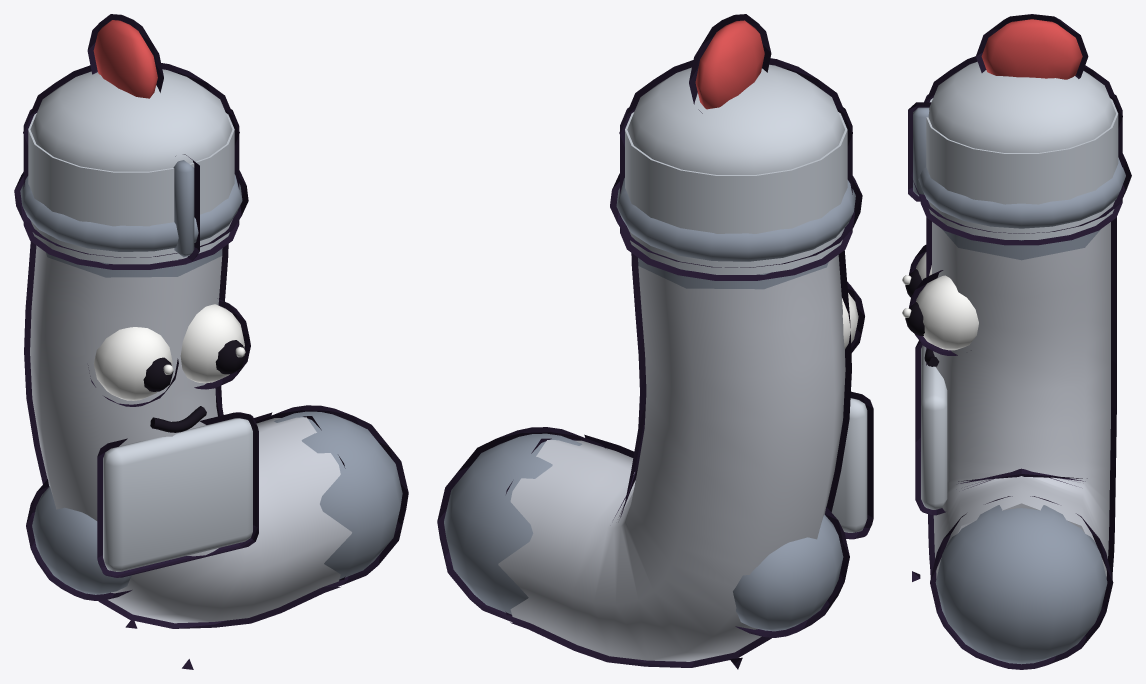
The model's file is Sockington_R.glb.
The picture shows the model from 3 angles, left to right: view 1: azimuth 30°, elevation 25°; view 2: azimuth 150°, elevation 25°; view 3: azimuth 270°, elevation 25°; orthographic projection. The views are drawn at different scales.
Parts seen in each view (by area): view 1: Sockington_R, Sockington_R_Outline; view 2: Sockington_R, Sockington_R_Outline; view 3: Sockington_R, Sockington_R_Outline.
Boxes of the visible parts, x1,y1,x2,y2 form: Sockington_R: (20, 20, 402, 623); Sockington_R_Outline: (14, 14, 408, 628); Sockington_R: (444, 20, 867, 661); Sockington_R_Outline: (437, 14, 873, 667); Sockington_R: (902, 19, 1125, 664); Sockington_R_Outline: (908, 14, 1131, 669).
Size of the model in its own units: 3.77 by 6.1 by 2.18.
Materials: 1 (1 with a texture image).
